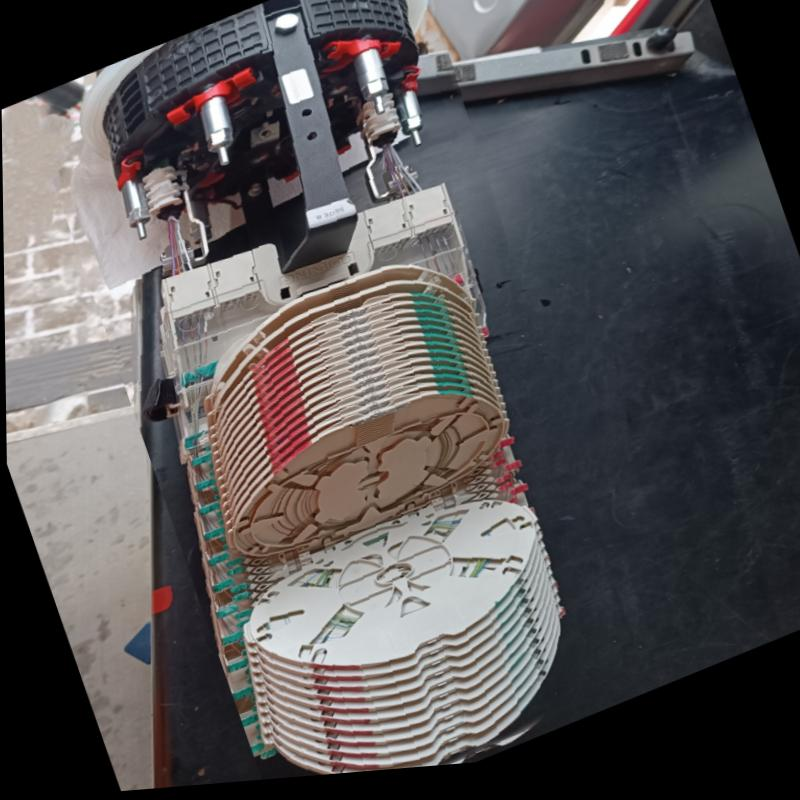NT-Muffen: (86, 0, 576, 780)
